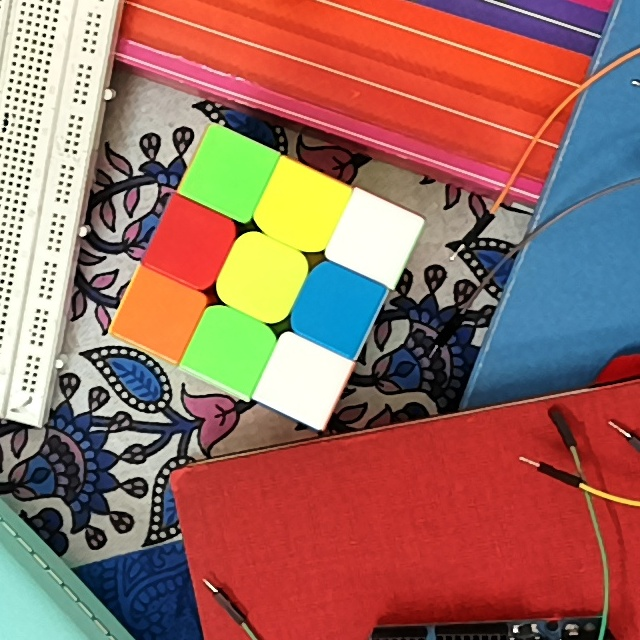tile: (234, 251, 290, 308), (199, 321, 255, 377), (131, 289, 188, 341), (308, 282, 362, 336), (165, 218, 219, 272), (203, 148, 256, 203), (274, 180, 326, 235), (277, 352, 330, 404), (351, 215, 402, 265)
